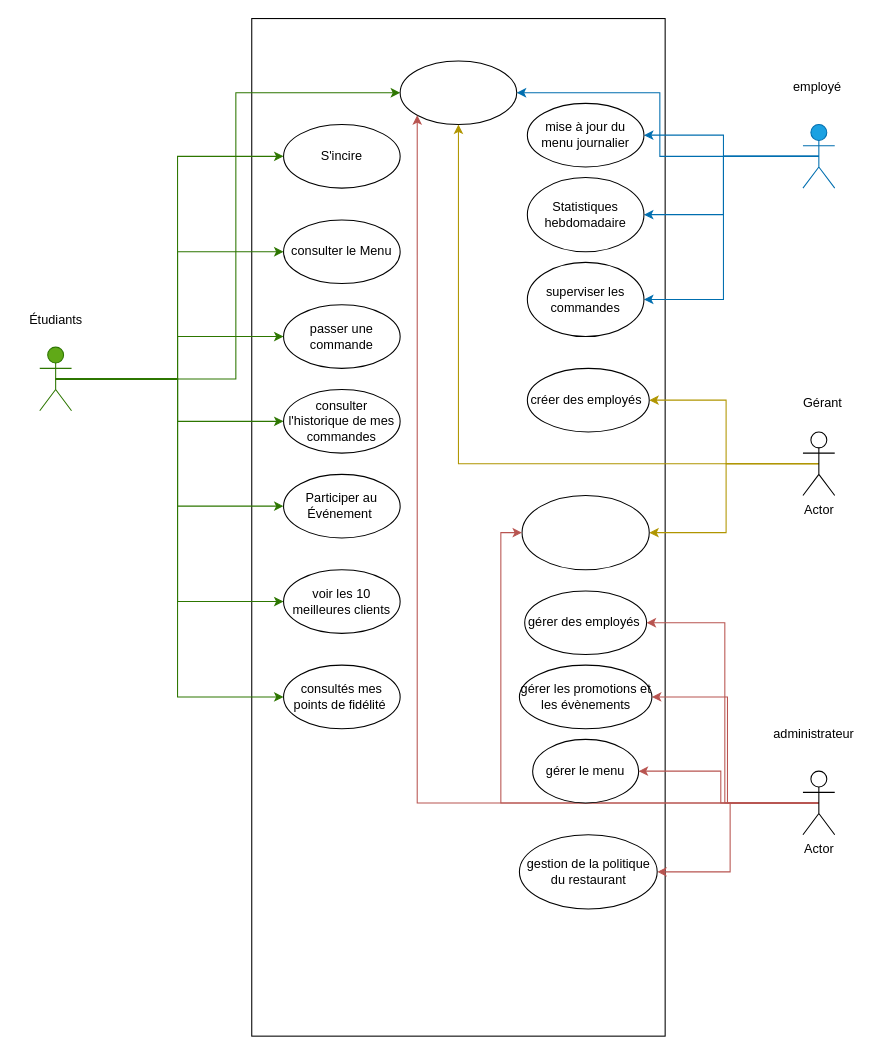
Some shapes in this 884 by 1055 pixel diagram are drawn without their labels. Each missing label, with the box of its shape:
se connecter: (399, 60, 517, 125)
statistique: (521, 494, 649, 570)
Système: (251, 17, 665, 1036)
